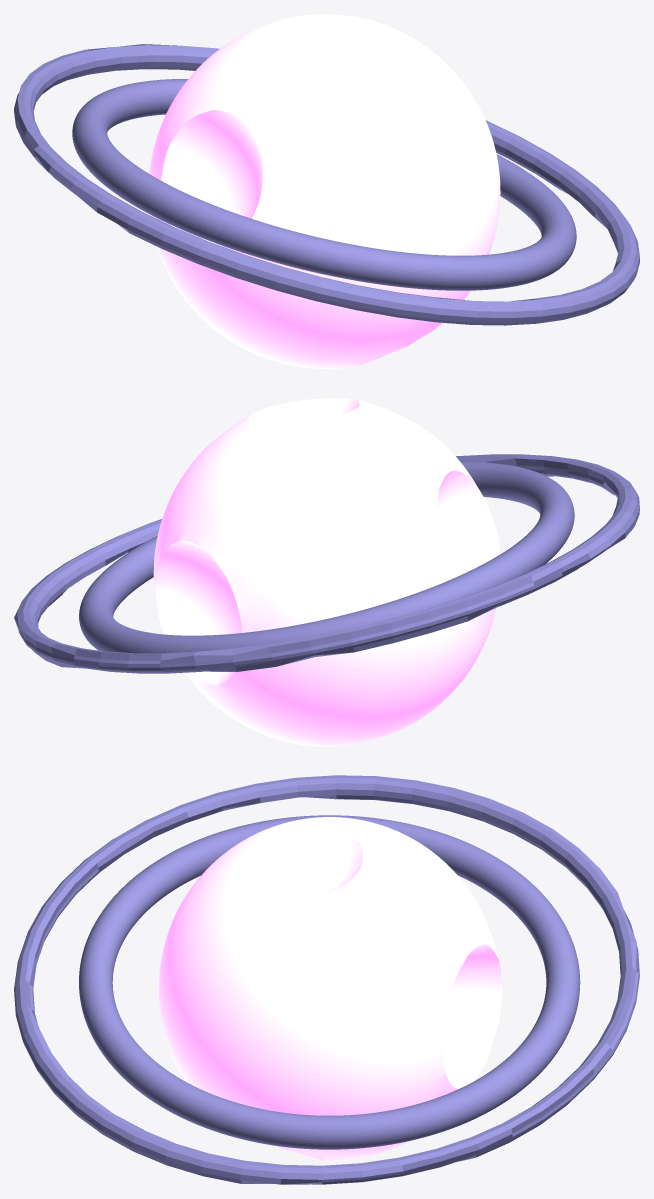
File: PlanetThree.glb
The picture shows the model from 3 angles, top to bottom: view 1: azimuth 30°, elevation 25°; view 2: azimuth 150°, elevation 25°; view 3: azimuth 270°, elevation 25°; orthographic projection. The views are drawn at different scales.
Parts seen in each view (by area): view 1: Sphere, Torus.001, Torus; view 2: Sphere, Torus.001, Torus; view 3: Sphere, Torus, Torus.001.
Boxes of the visible parts, bbox=[...] form: Sphere: bbox=[149, 14, 500, 369]; Torus.001: bbox=[14, 44, 639, 325]; Torus: bbox=[72, 79, 576, 290]; Sphere: bbox=[153, 398, 499, 746]; Torus.001: bbox=[14, 454, 639, 673]; Torus: bbox=[79, 462, 574, 653]; Sphere: bbox=[158, 817, 502, 1161]; Torus: bbox=[79, 815, 580, 1149]; Torus.001: bbox=[14, 775, 639, 1184].
Size of the model in its own units: 3.51 by 1.99 by 3.6.
